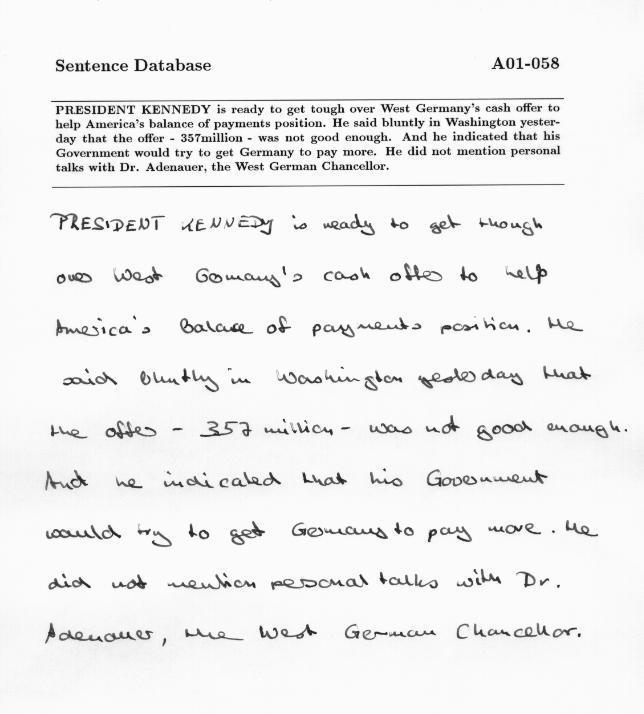text: (41, 516, 603, 552), (59, 361, 595, 396), (46, 412, 630, 444), (39, 618, 583, 650), (52, 311, 587, 342), (52, 259, 550, 291), (40, 464, 553, 495), (47, 210, 545, 239), (43, 565, 563, 592), (54, 127, 562, 147), (53, 114, 561, 132), (53, 101, 562, 118), (54, 143, 563, 160), (54, 157, 389, 176), (53, 56, 214, 76), (489, 54, 561, 73)
